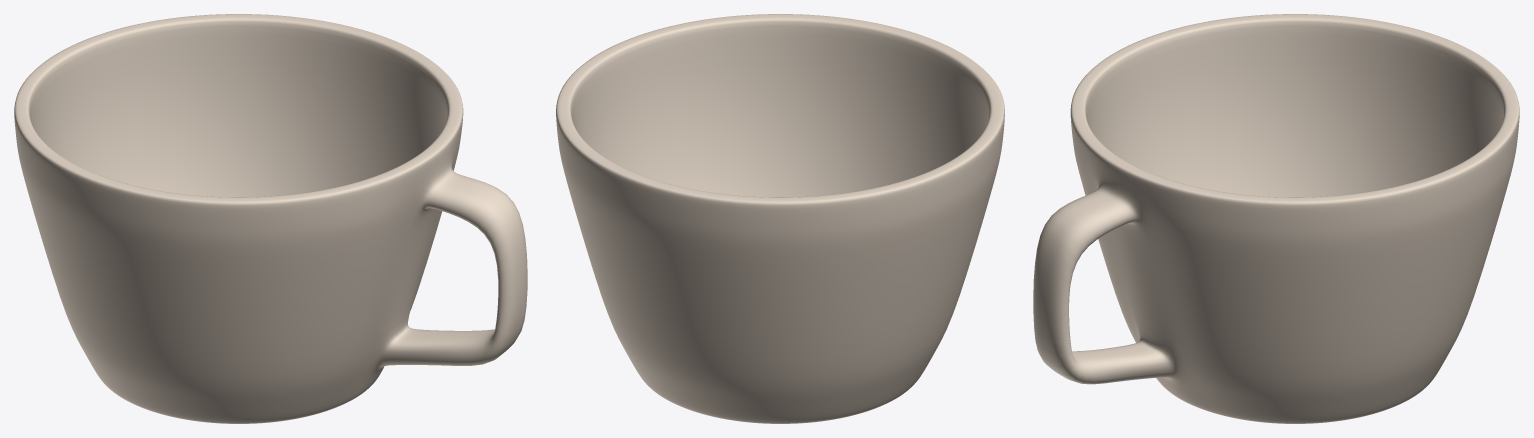
The model's file is Cup1.fbx.
3 views of the same model, side by side, from view 1: azimuth 30°, elevation 25°; view 2: azimuth 150°, elevation 25°; view 3: azimuth 270°, elevation 25° (orthographic).
Parts seen in each view (by area): view 1: Circle; view 2: Circle; view 3: Circle.
Boxes of the visible parts, box(x1,y1,x2,y2) form: Circle: box(14, 14, 527, 423); Circle: box(556, 14, 1004, 423); Circle: box(1033, 14, 1519, 423).
Bounding box in the file's own units: 631 × 399 × 684.
